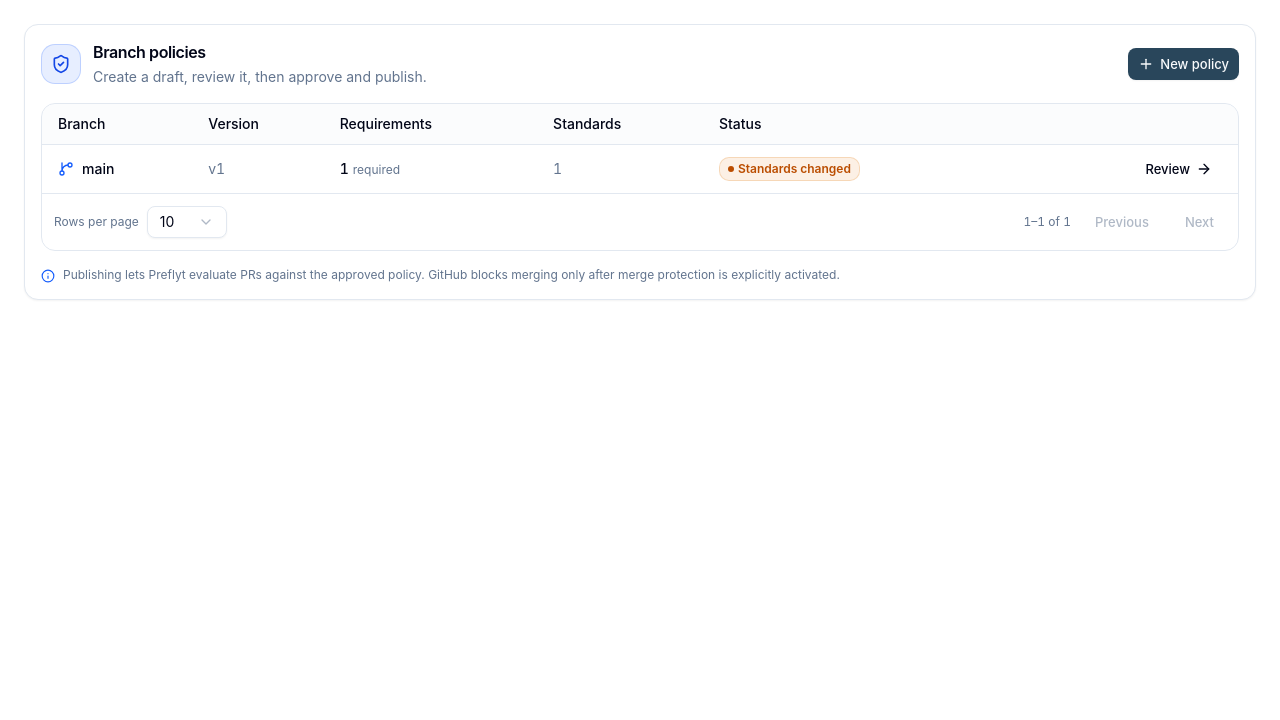
Test: does not require repository standards and does not block creation when repository defaults change
Click the button "New policy" at point(1184, 64), box [1128,48,1239,80]
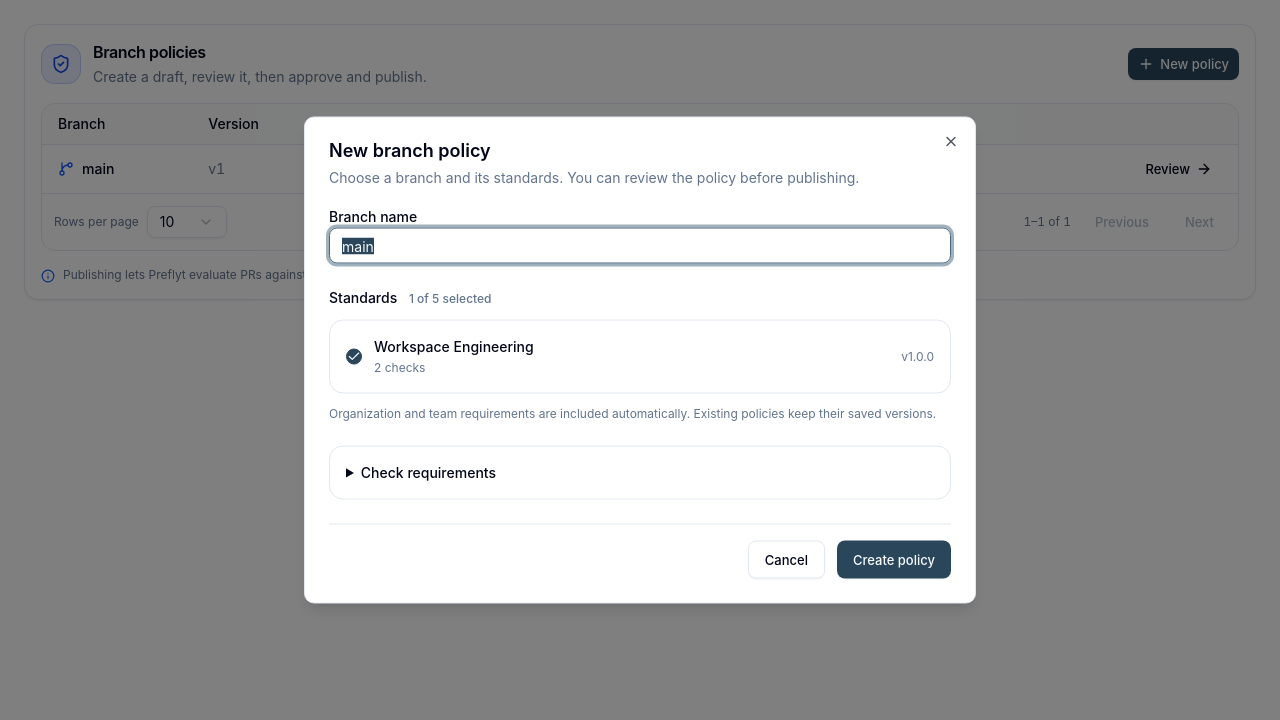
Expected: the button "Create policy" is enabled, [837,540,951,578]
Click the checkbox named "Workspace Engineering" at point(354, 356), box [346,348,362,364]
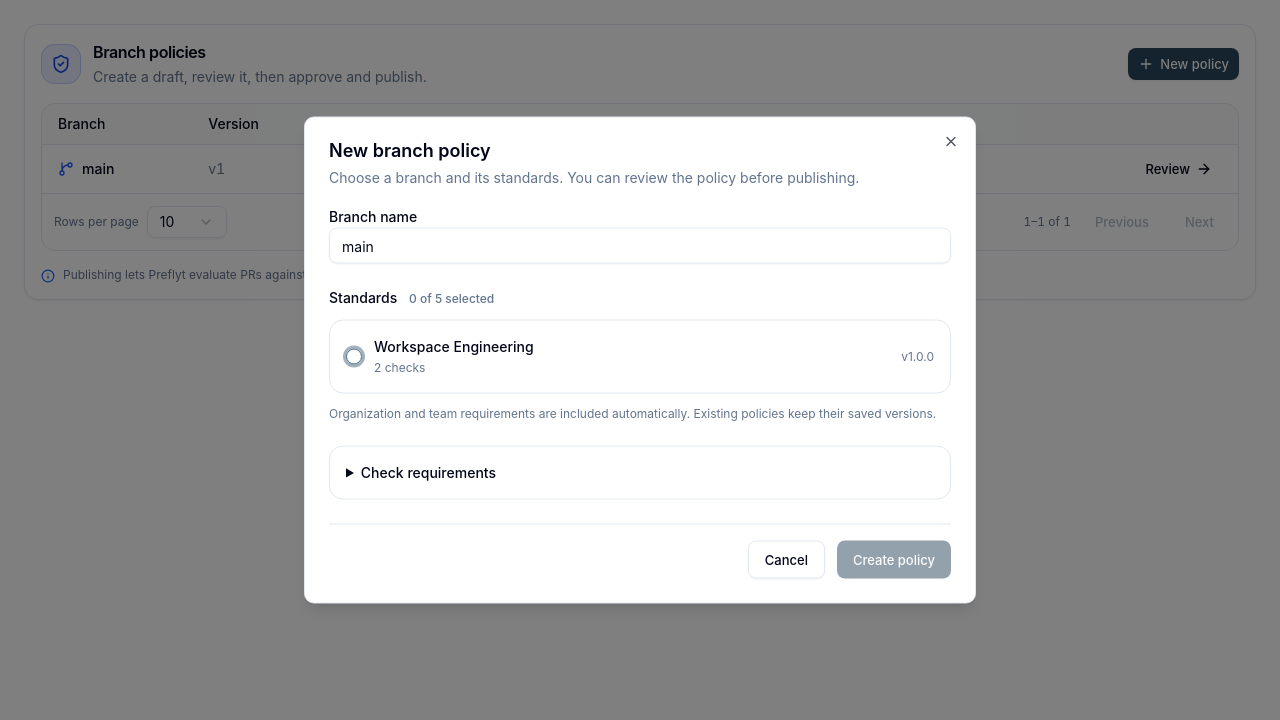
Expected: the button "Create policy" is disabled, [837,540,951,578]
